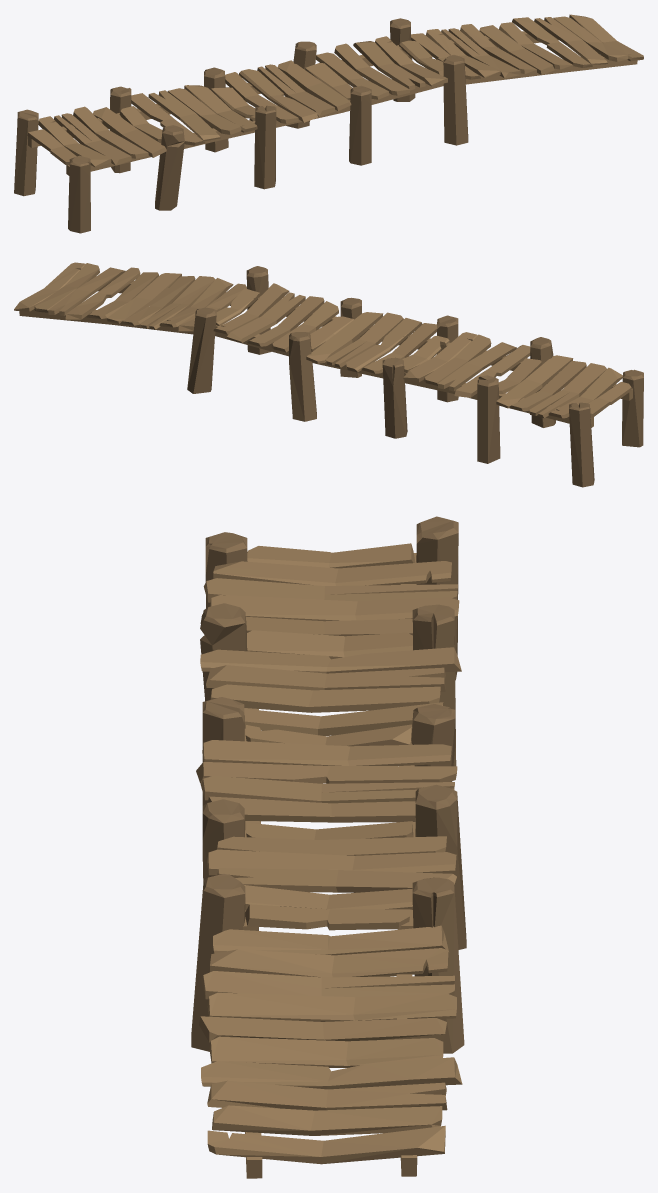
File: BeachDock.fbx
3 renders of one model, top to bottom at view 1: azimuth 30°, elevation 25°; view 2: azimuth 150°, elevation 25°; view 3: azimuth 270°, elevation 25°, orthographic. The views are drawn at different scales.
Visible parts, largest first — view 1: Dock, WoodPlatformShort; view 2: Dock, WoodPlatformShort; view 3: Dock, WoodPlatformShort.
Boxes of the visible parts, x1,y1,x2,y2 form: Dock: (14,18,468,233); WoodPlatformShort: (411,14,643,84); Dock: (187,266,643,487); WoodPlatformShort: (14,262,246,334); Dock: (191,516,466,1053); WoodPlatformShort: (199,925,462,1178).
Size of the model in its own units: 1433 by 190 by 296.
Materials: 1 (1 with a texture image).
